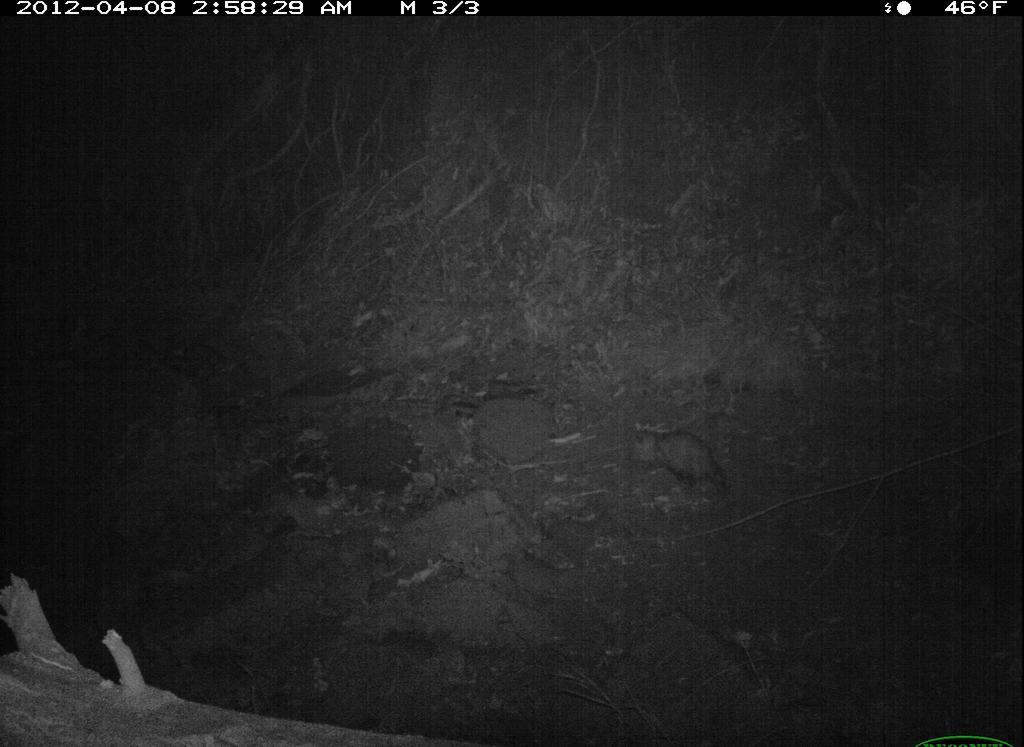opossum: (621, 417, 744, 515)
